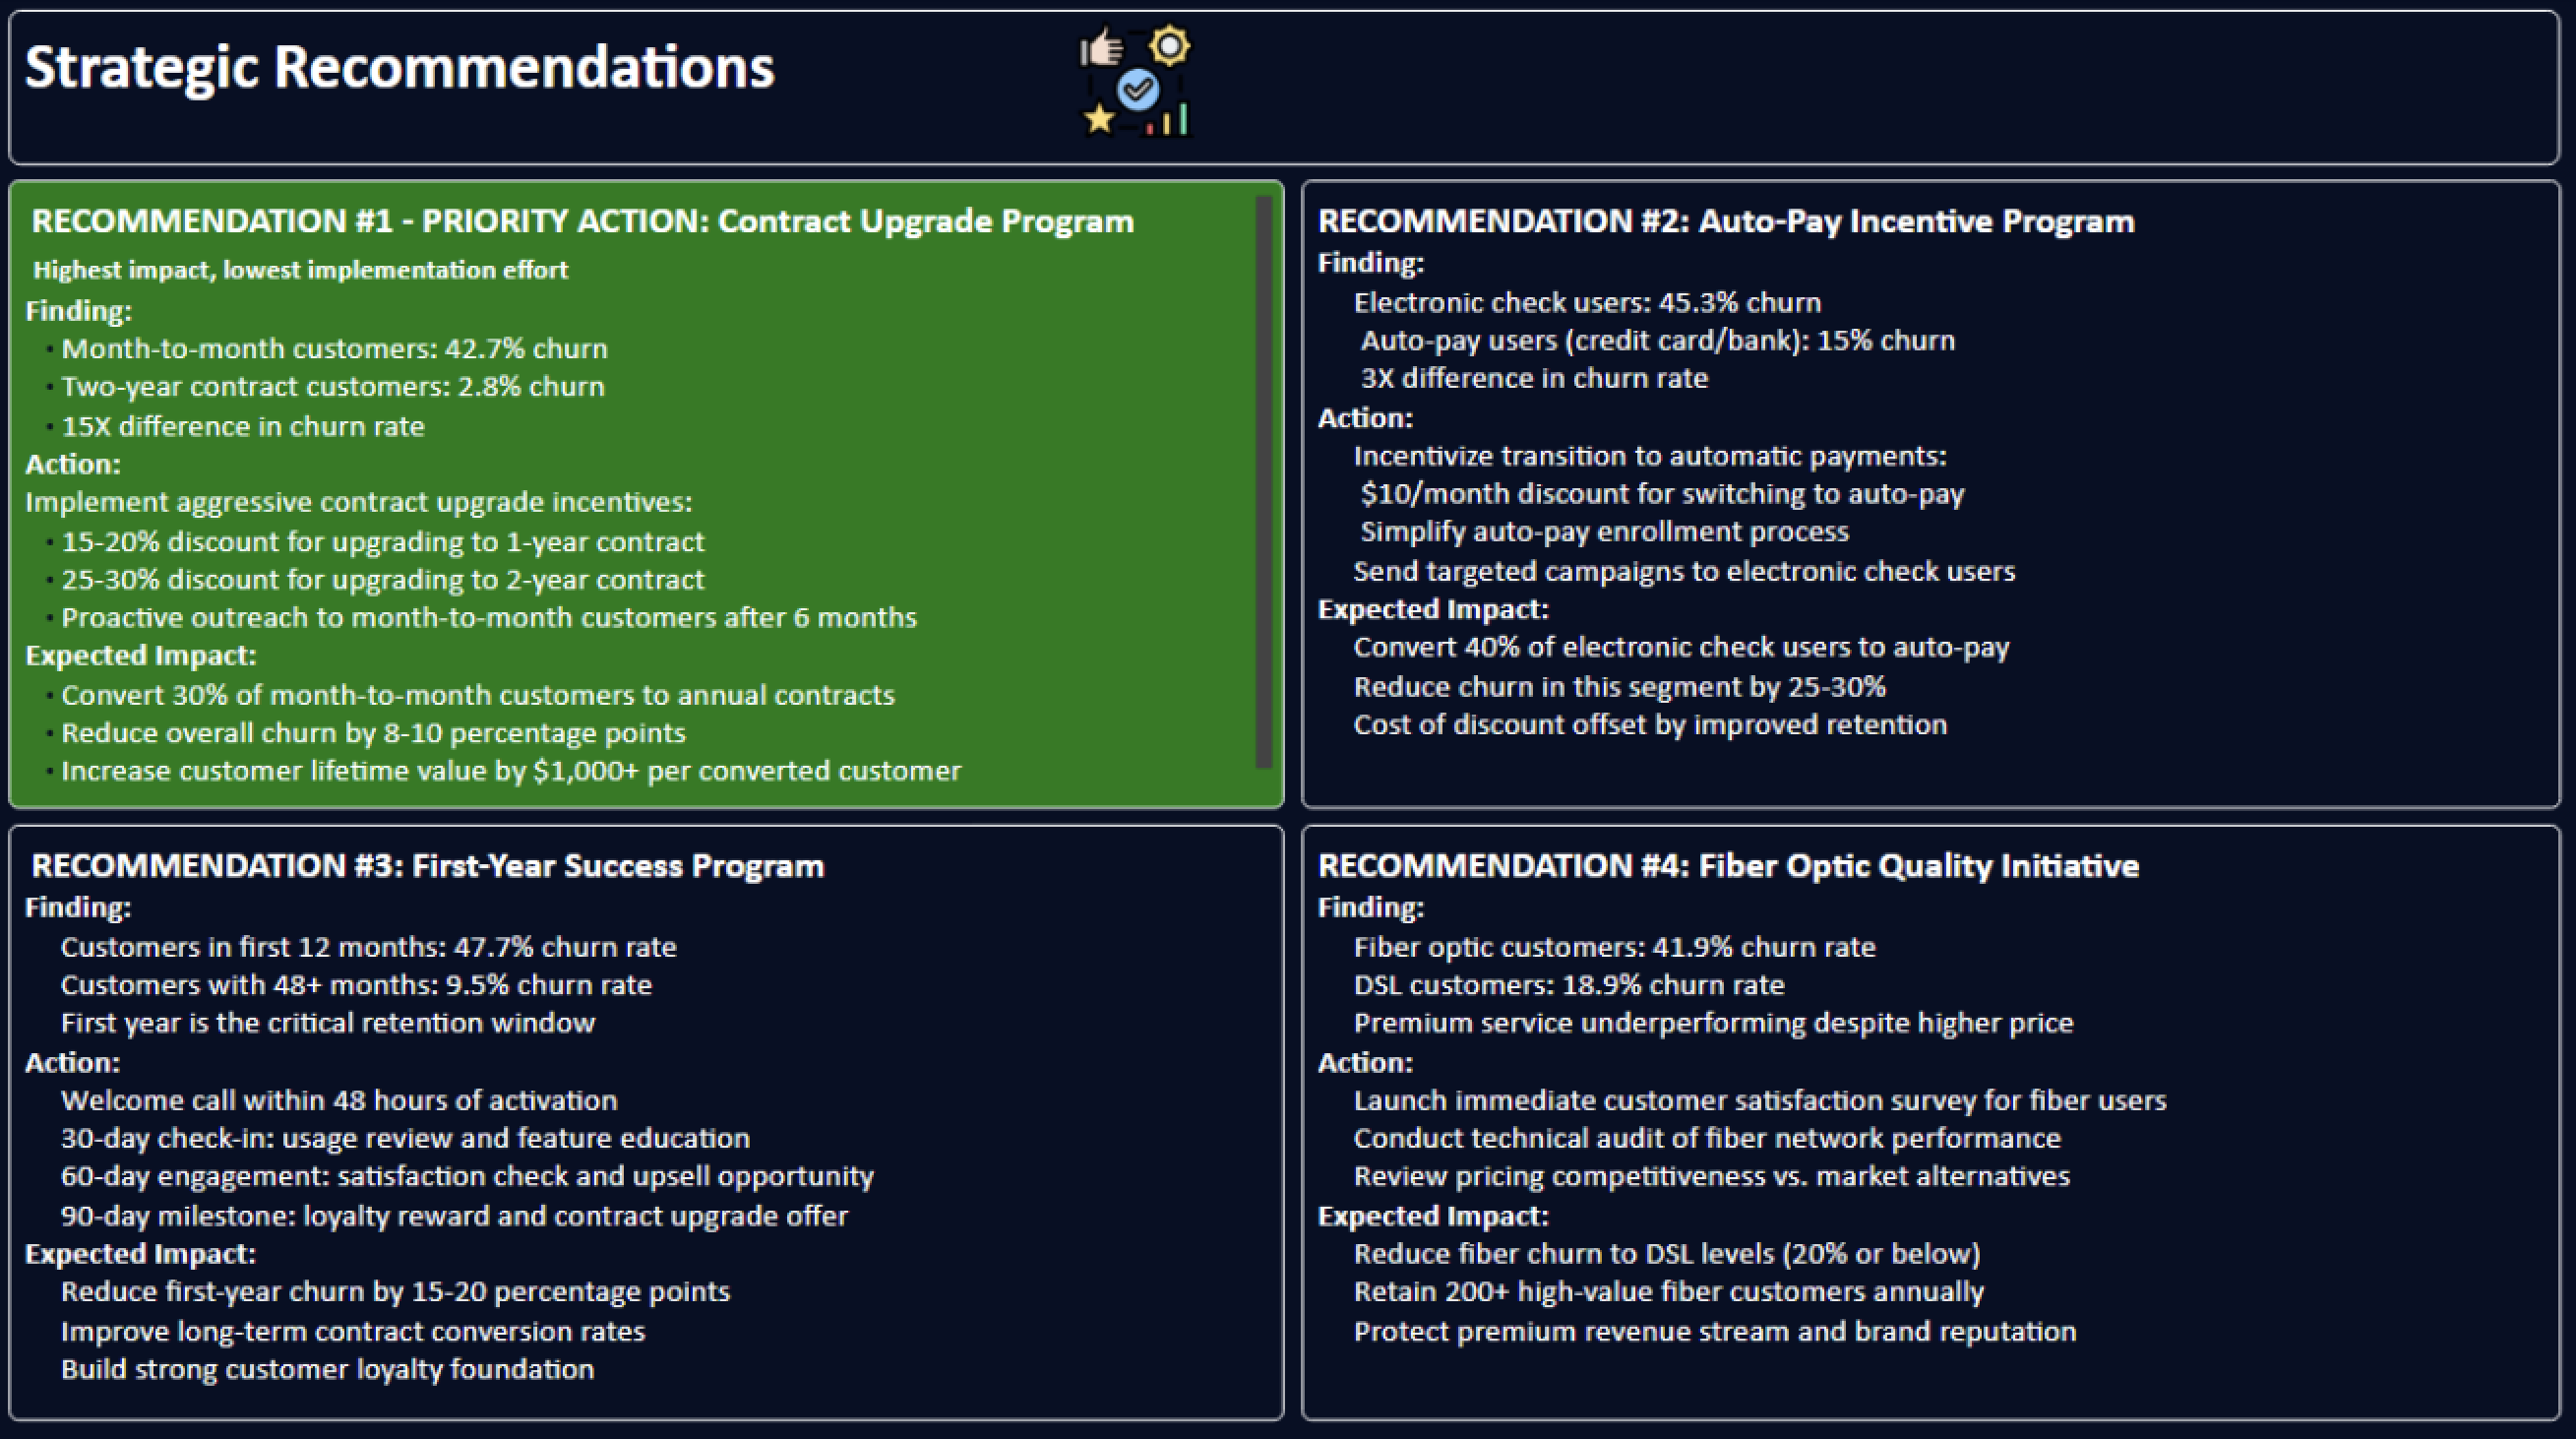

What the dashboard file says about the page in this screenshot:
{"tool":"powerbi","page":{"name":"Recommendation & Action Plan","canvas":[1280,720],"ordinal":3},"visuals":[{"type":"textbox","box":[9.3,9.3,1262.4,76.8],"z":0},{"type":"textbox","box":[9.3,93.4,631.2,311.4],"z":1000},{"type":"textbox","box":[648.8,93.4,622.9,311.4],"z":2000},{"type":"textbox","box":[9.3,412.1,631.2,294.8],"z":3000},{"type":"textbox","box":[648.8,412.1,622.9,294.8],"z":4000},{"type":"image","box":[475.5,9.3,182.7,68.5],"z":4001}]}

Visuals, with their boxes in screenshot pixels (x1, y1, x2, y2), scaled from the page's 1280x720 canvas onto the 2576x1439 screenshot:
textbox: [left=19, top=19, right=2559, bottom=172]
textbox: [left=19, top=187, right=1289, bottom=809]
textbox: [left=1306, top=187, right=2559, bottom=809]
textbox: [left=19, top=824, right=1289, bottom=1412]
textbox: [left=1306, top=824, right=2559, bottom=1412]
image: [left=957, top=19, right=1324, bottom=156]
